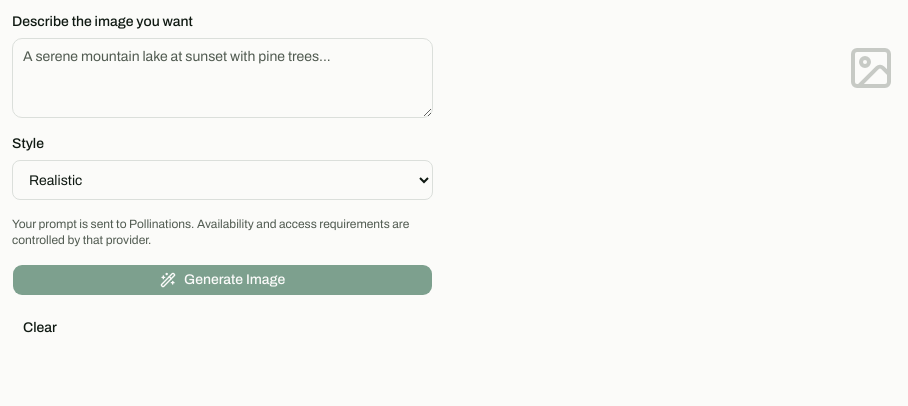
Test case: image provider failures › reports access failures honestly and includes the selected style in the request
This screenshot has width=908, height=406.
In the text box labelled "Describe the image you want": (223, 78) [12,38,433,118], type "A mountain lake"
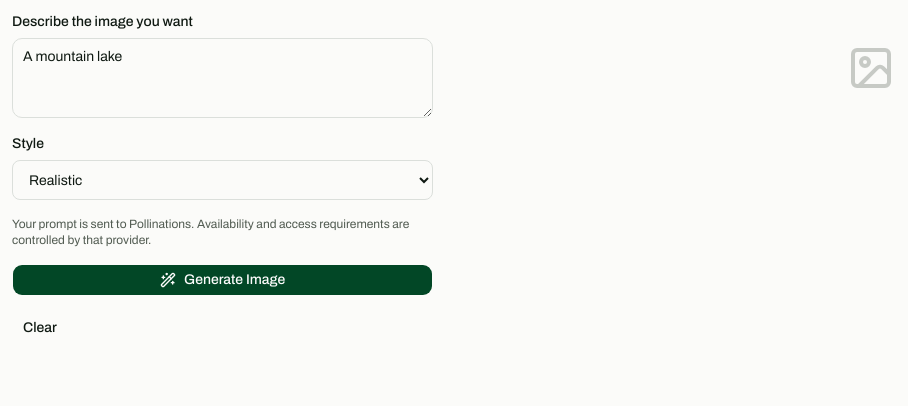
Select "Watercolor" in the dropdown named "Style": (223, 180) [12,160,433,200]
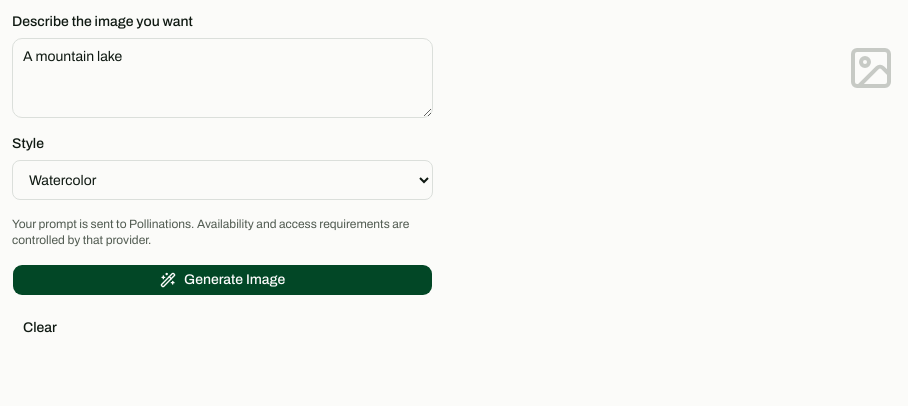
Click the button "Generate Image": (223, 280) [12,264,433,296]
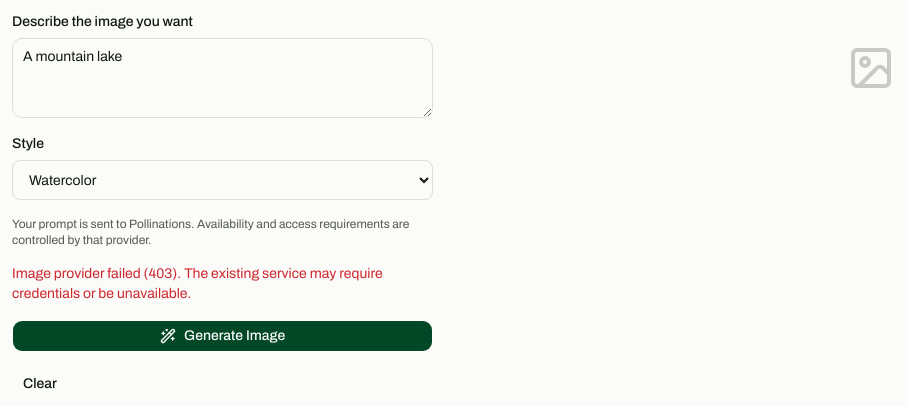
Expected: the message shows "Image provider failed (403)", [12,266,383,301]
